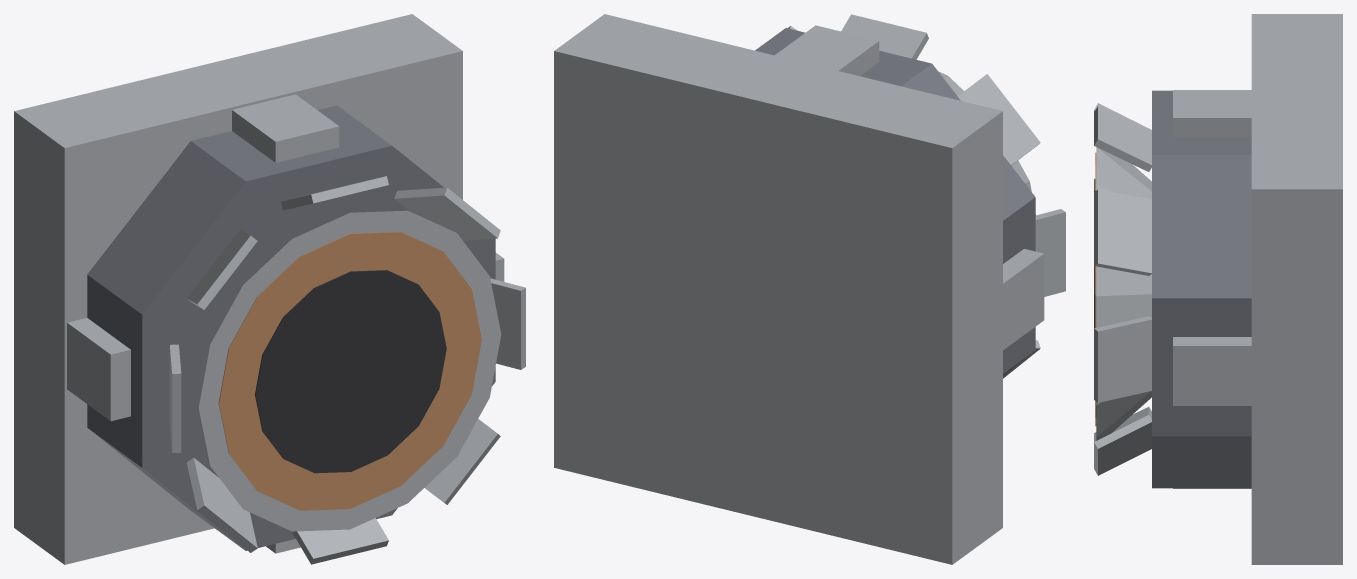
Rendered from shell_capital.glb.
The picture shows the model from 3 angles, left to right: view 1: azimuth 30°, elevation 25°; view 2: azimuth 150°, elevation 25°; view 3: azimuth 270°, elevation 25°; orthographic projection. The views are drawn at different scales.
Bounding box in the file's own units: 5 × 5 × 3.
